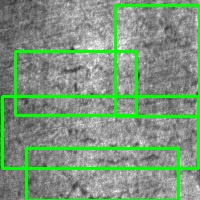crazing: (2, 96, 198, 168), (115, 6, 199, 116), (27, 148, 178, 200), (15, 51, 136, 115)
